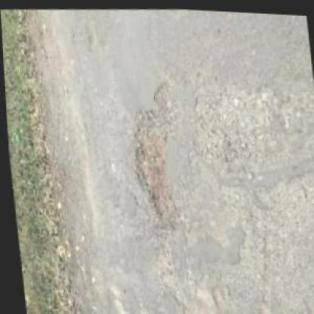Hueco: (121, 74, 187, 228)
